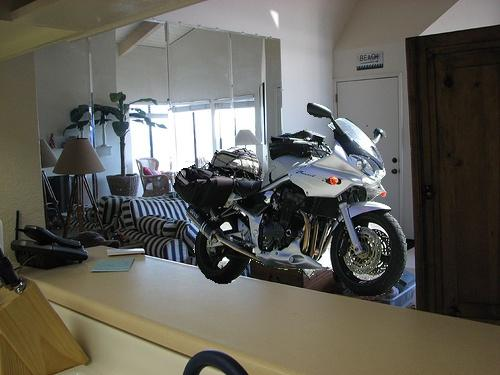tampered: (174, 104, 407, 296)
